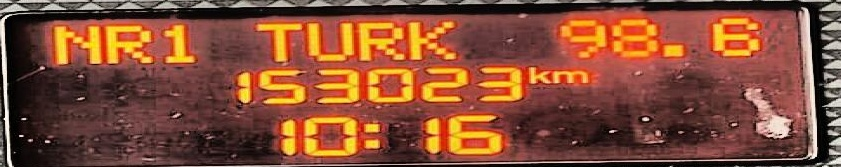-: (662, 40, 688, 58)
0: (300, 114, 355, 158), (362, 65, 412, 104)
1: (159, 23, 203, 68), (268, 115, 298, 160), (230, 65, 255, 107), (419, 112, 442, 155)
2: (420, 63, 465, 103)
3: (476, 63, 520, 104), (312, 66, 357, 105)
5: (256, 66, 303, 105)
6: (702, 11, 768, 60), (447, 112, 509, 155)
8: (610, 15, 662, 61)
9: (558, 17, 605, 60)
X: (357, 19, 409, 63), (303, 20, 355, 63), (411, 18, 463, 60), (48, 23, 100, 64), (253, 19, 300, 62), (104, 23, 152, 64), (360, 119, 385, 152), (555, 67, 595, 85), (524, 64, 555, 85)
